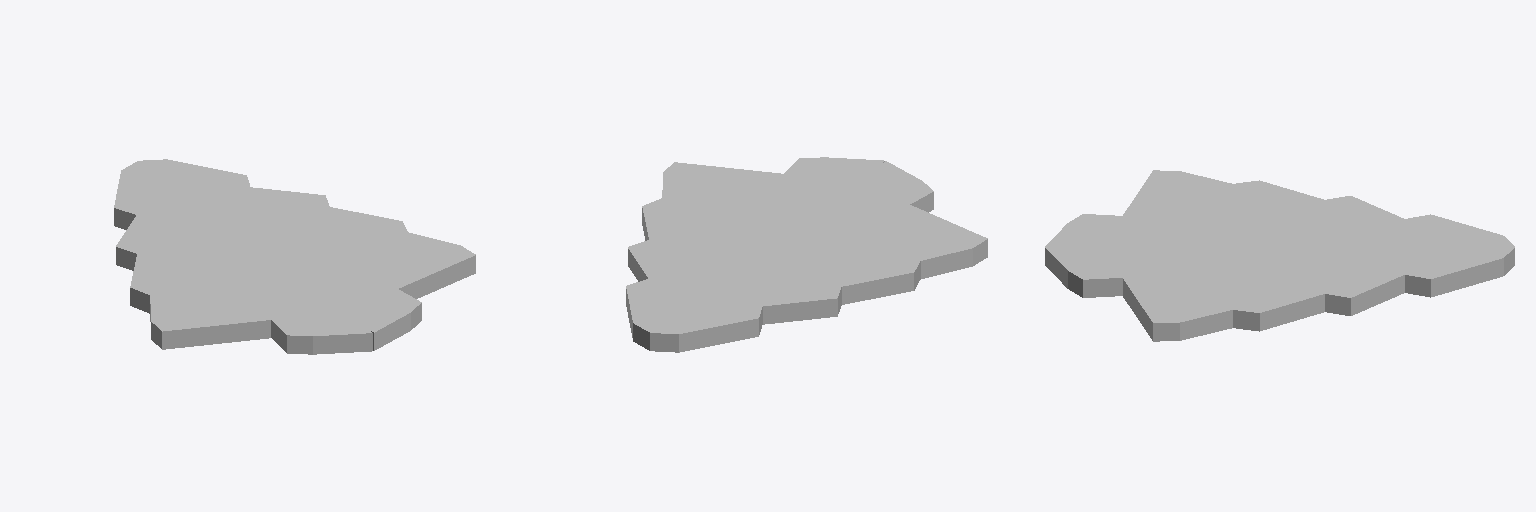
File: Pepparkaka-Julgran.obj
3 renders of one model, left to right at view 1: azimuth 30°, elevation 25°; view 2: azimuth 150°, elevation 25°; view 3: azimuth 270°, elevation 25°, orthographic.
Parts seen in each view (by area): view 1: Plane; view 2: Plane; view 3: Plane.
Boxes of the visible parts, box(x1,y1,x2,y2) form: Plane: box(114, 159, 475, 354); Plane: box(626, 157, 987, 352); Plane: box(1045, 170, 1514, 341).
Size of the model in its own units: 3.91 by 0.2183 by 5.08.